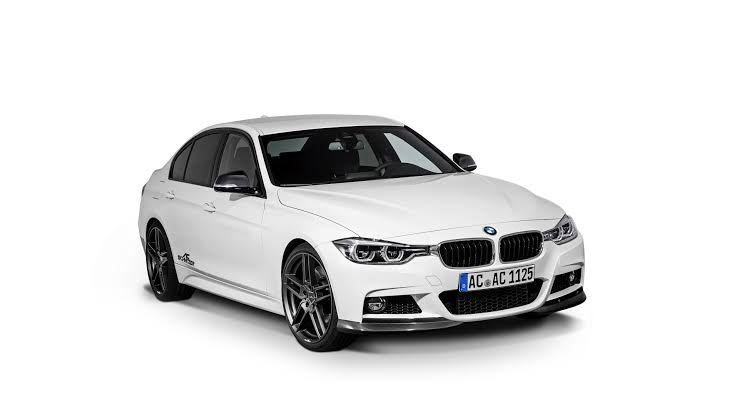bmw: (99, 111, 635, 355)
